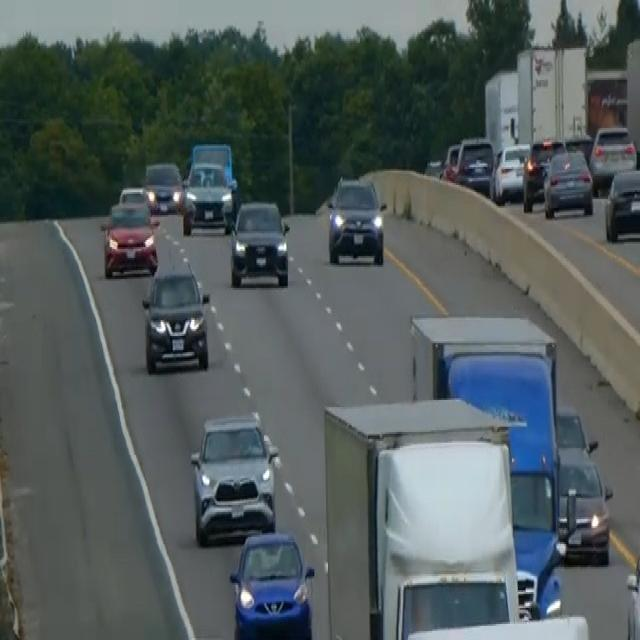car: (189, 409, 279, 544), (228, 528, 315, 638), (141, 256, 210, 373), (556, 442, 613, 564), (228, 197, 290, 288), (326, 172, 386, 265), (100, 198, 159, 278), (181, 158, 236, 235), (542, 146, 594, 218), (589, 121, 637, 190), (522, 135, 566, 210), (604, 165, 639, 242), (489, 140, 531, 204), (452, 135, 494, 196), (143, 158, 184, 214), (554, 402, 597, 455), (189, 140, 235, 187), (625, 532, 639, 638), (564, 132, 594, 166), (117, 183, 151, 212), (440, 140, 460, 182)
lorry: (319, 393, 589, 638), (408, 311, 565, 617)
